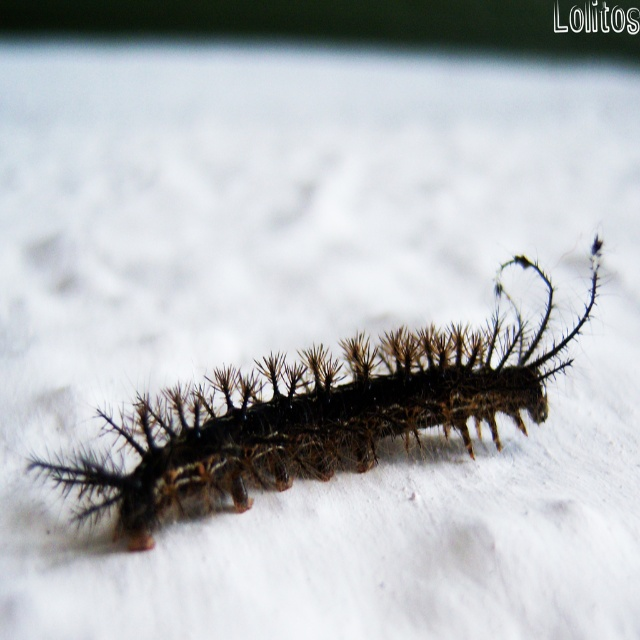Centipede: (20, 236, 618, 548)
